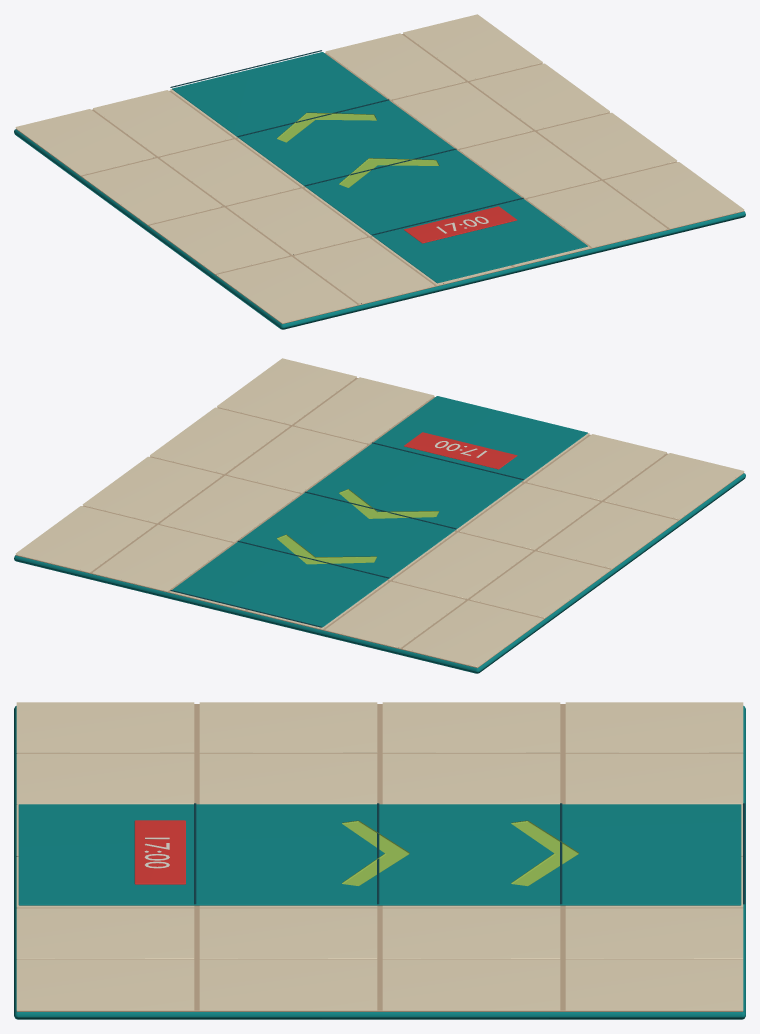
File: floor_module.glb
3 renders of one model, top to bottom at view 1: azimuth 30°, elevation 25°; view 2: azimuth 150°, elevation 25°; view 3: azimuth 270°, elevation 25°, orthographic. The views are drawn at different scales.
Parts seen in each view (by area): view 1: BaseTiles_Geometry, Wayfinding_Geometry; view 2: BaseTiles_Geometry, Wayfinding_Geometry; view 3: BaseTiles_Geometry, Wayfinding_Geometry.
Boxes of the visible parts, left/top/right/bottom form: BaseTiles_Geometry: left=14, top=14, right=745, bottom=329; Wayfinding_Geometry: left=170, top=50, right=587, bottom=283; BaseTiles_Geometry: left=14, top=358, right=745, bottom=673; Wayfinding_Geometry: left=170, top=396, right=587, bottom=627; BaseTiles_Geometry: left=14, top=702, right=745, bottom=1019; Wayfinding_Geometry: left=18, top=803, right=745, bottom=905.
Bounding box in the file's own units: 8 × 0.1805 × 8.
